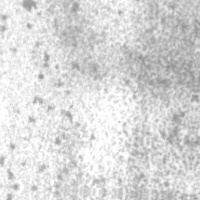pitted_surface: (43, 0, 198, 195)
